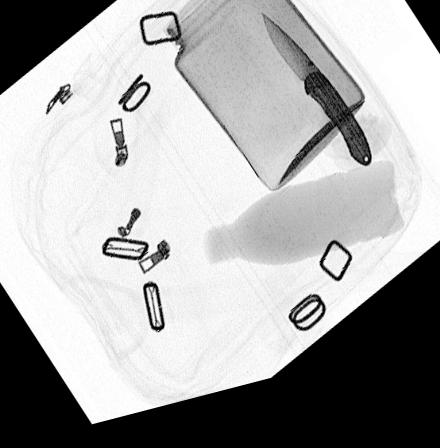Knife: (258, 21, 374, 187)
